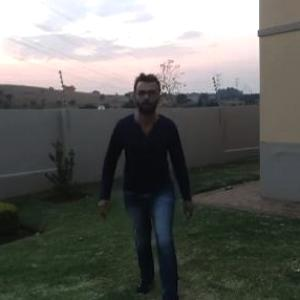follow: (112, 74, 191, 299)
